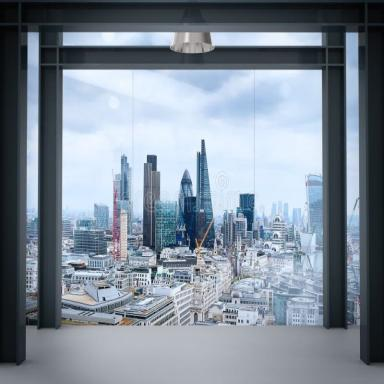glass_panel: (65, 72, 322, 324), (346, 35, 360, 322), (26, 34, 38, 319), (64, 34, 322, 45)
